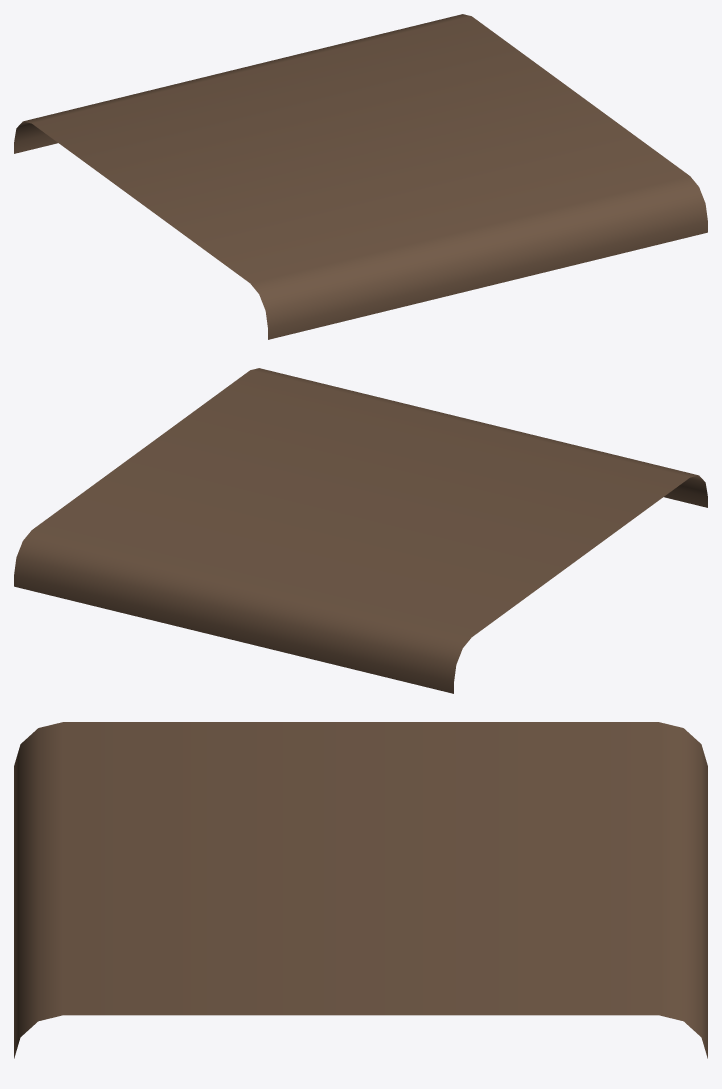
The model's file is GardenBed_Mid.glb.
The picture shows the model from 3 angles, top to bottom: view 1: azimuth 30°, elevation 25°; view 2: azimuth 150°, elevation 25°; view 3: azimuth 270°, elevation 25°; orthographic projection. The views are drawn at different scales.
Parts seen in each view (by area): view 1: GardenBed_Mid; view 2: GardenBed_Mid; view 3: GardenBed_Mid.
Boxes of the visible parts, bbox=[...] form: GardenBed_Mid: bbox=[14, 14, 707, 339]; GardenBed_Mid: bbox=[14, 368, 707, 693]; GardenBed_Mid: bbox=[14, 722, 707, 1058].
Size of the model in its own units: 2 by 0.1888 by 2.
